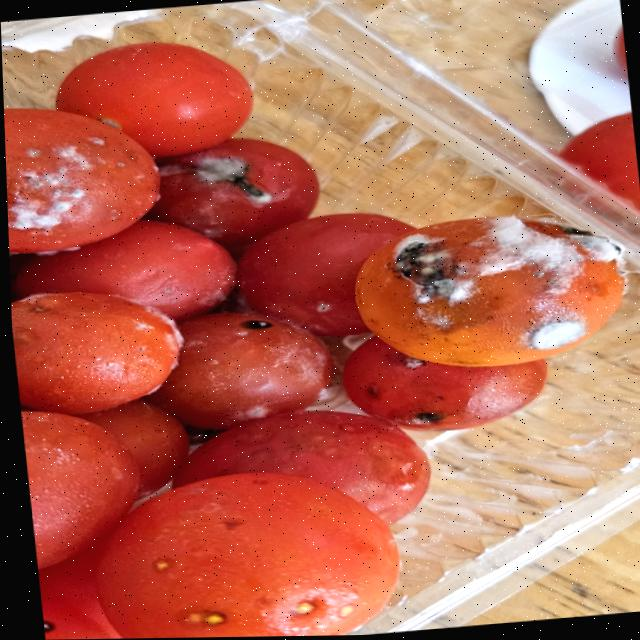rot_lvl1: (182, 609, 233, 630), (288, 594, 326, 617), (148, 556, 180, 573), (329, 603, 359, 620), (315, 444, 344, 458), (337, 421, 360, 434)
rot_lvl2: (476, 214, 592, 299), (382, 230, 488, 307), (192, 155, 274, 207), (8, 186, 89, 233), (412, 301, 497, 334), (557, 222, 624, 263), (527, 317, 586, 350), (14, 165, 74, 192), (50, 142, 98, 171), (408, 409, 448, 425), (399, 358, 428, 373), (237, 319, 276, 330), (242, 405, 274, 418), (311, 301, 335, 316), (23, 147, 45, 160), (365, 385, 384, 399), (87, 137, 111, 148), (136, 321, 158, 333), (114, 160, 132, 168), (7, 179, 14, 192)
